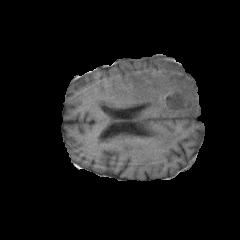glioma: (98, 61, 199, 143)
